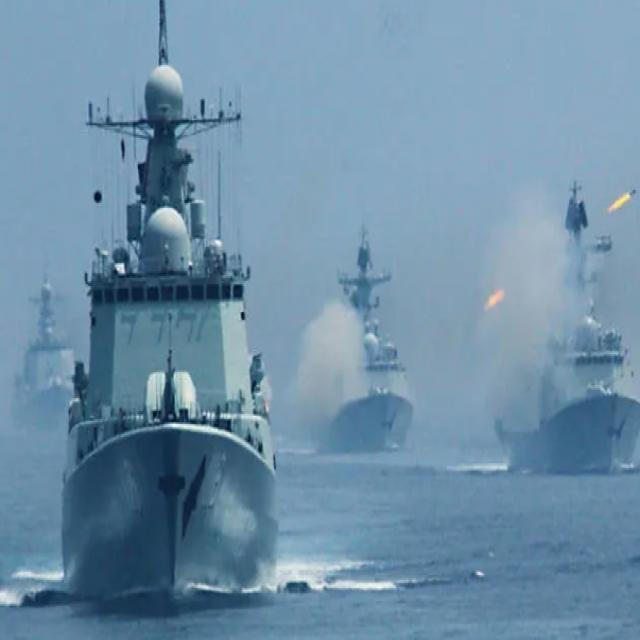navalvessels: (53, 0, 275, 588), (496, 181, 638, 468), (290, 228, 416, 467), (2, 262, 67, 468)
